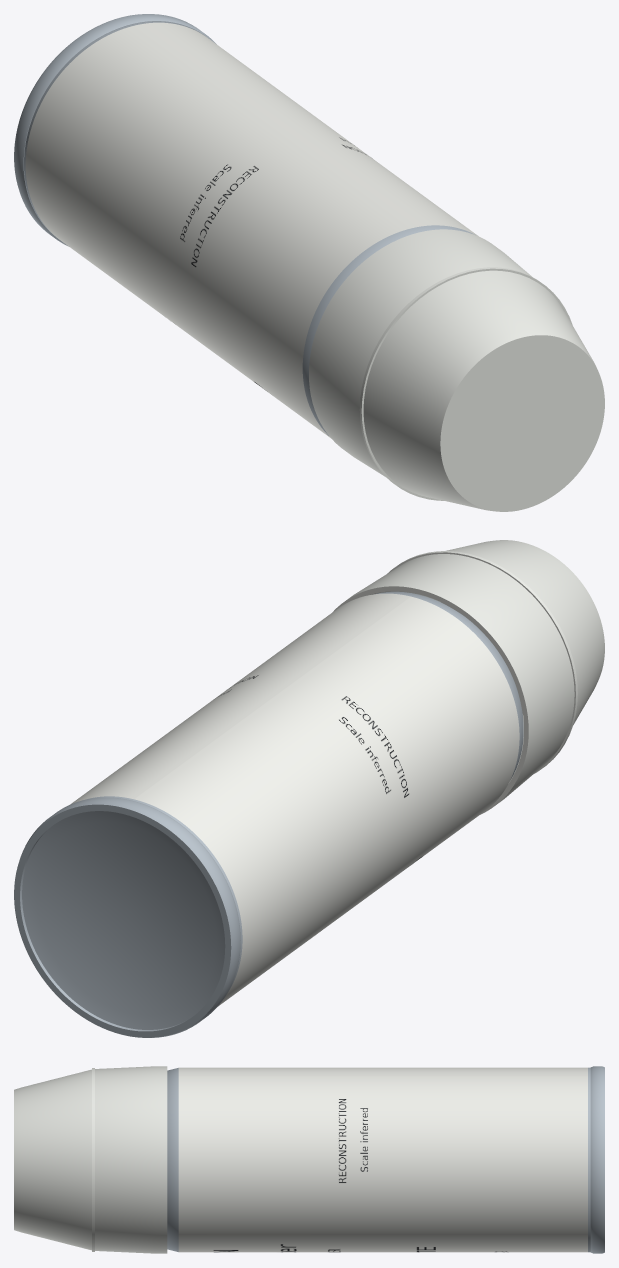
File: supply_krylon_51502.glb
3 renders of one model, top to bottom at view 1: azimuth 30°, elevation 25°; view 2: azimuth 150°, elevation 25°; view 3: azimuth 270°, elevation 25°, orthographic. The views are drawn at different scales.
Parts seen in each view (by area): view 1: can_identification_text, cap_hollow_shell, rolled_lower_seam, sealed_can_shell, cap_moulded_shoulder; view 2: can_identification_text, sealed_can_shell, cap_hollow_shell, rolled_lower_seam, cap_moulded_shoulder; view 3: can_identification_text, cap_hollow_shell, rolled_lower_seam, sealed_can_shell, cap_moulded_shoulder.
Boxes of the visible parts, left/top/right/bottom form: can_identification_text: left=25, top=22, right=478, bottom=437; cap_hollow_shell: left=309, top=229, right=604, bottom=511; rolled_lower_seam: left=14, top=14, right=216, bottom=246; sealed_can_shell: left=24, top=21, right=475, bottom=435; cap_moulded_shoulder: left=359, top=267, right=572, bottom=500; can_identification_text: left=70, top=593, right=519, bottom=1006; sealed_can_shell: left=22, top=591, right=523, bottom=1029; cap_hollow_shell: left=333, top=540, right=604, bottom=814; rolled_lower_seam: left=14, top=797, right=240, bottom=1037; cap_moulded_shoulder: left=387, top=551, right=577, bottom=773; can_identification_text: left=178, top=1067, right=587, bottom=1252; cap_hollow_shell: left=14, top=1066, right=167, bottom=1253; rolled_lower_seam: left=590, top=1066, right=604, bottom=1253; sealed_can_shell: left=167, top=1067, right=590, bottom=1252; cap_moulded_shoulder: left=92, top=1068, right=94, bottom=1251.
Size of the model in its own units: 0.066 by 0.066 by 0.208.
8 materials, 1 textured.
